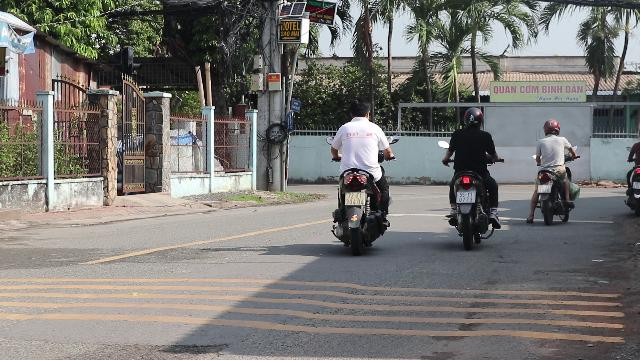helmet: (462, 108, 482, 128), (542, 119, 562, 136)
licenseplate: (345, 192, 365, 206), (456, 192, 476, 202), (537, 185, 551, 194)
motorcyclist: (327, 96, 395, 253), (441, 106, 503, 248), (526, 118, 580, 224)
nohelmet: (346, 99, 370, 122)
